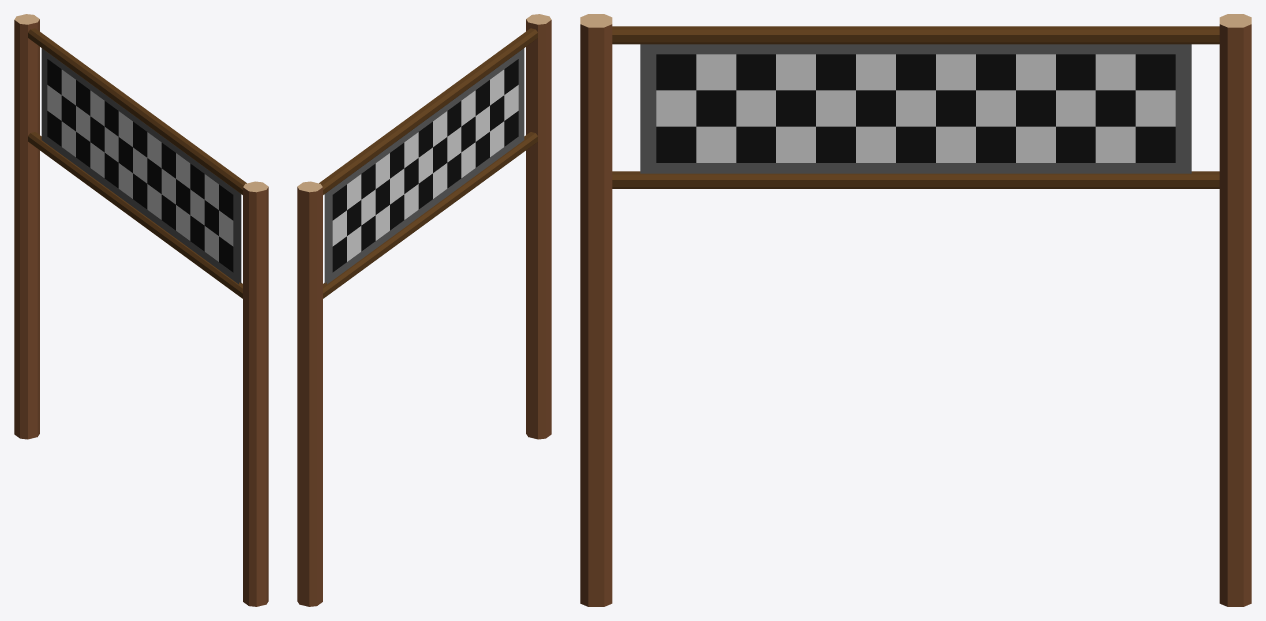
File: Prop_Track_Banner_Finish_Line_Single_Checkered.obj
3 views of the same model, side by side, from view 1: azimuth 30°, elevation 25°; view 2: azimuth 150°, elevation 25°; view 3: azimuth 270°, elevation 25° (orthographic). The views are drawn at different scales.
Parts seen in each view (by area): view 1: Flag_Pole_Side, Flag_Black, Flag_White, Flag_Rail, Flag_Border, Flag_Pole_Top; view 2: Flag_Pole_Side, Flag_Black, Flag_White, Flag_Rail, Flag_Border, Flag_Pole_Top; view 3: Flag_Pole_Side, Flag_Black, Flag_White, Flag_Rail, Flag_Border.
Part boxes in pixels (<box>): Flag_Pole_Side: <box>14,19,268,606</box>; Flag_Black: <box>47,59,233,272</box>; Flag_White: <box>47,69,233,261</box>; Flag_Rail: <box>28,28,246,298</box>; Flag_Border: <box>41,48,241,284</box>; Flag_Pole_Top: <box>14,14,268,192</box>; Flag_Pole_Side: <box>297,19,551,606</box>; Flag_Black: <box>332,59,518,272</box>; Flag_White: <box>332,69,518,261</box>; Flag_Rail: <box>319,28,537,298</box>; Flag_Border: <box>324,48,524,284</box>; Flag_Pole_Top: <box>297,14,551,192</box>; Flag_Pole_Side: <box>580,24,1251,606</box>; Flag_Black: <box>656,54,1175,162</box>; Flag_White: <box>656,54,1175,162</box>; Flag_Rail: <box>612,26,1219,188</box>; Flag_Border: <box>640,44,1191,173</box>.
Bounding box in the file's own units: 0.1 × 2 × 2.1.
